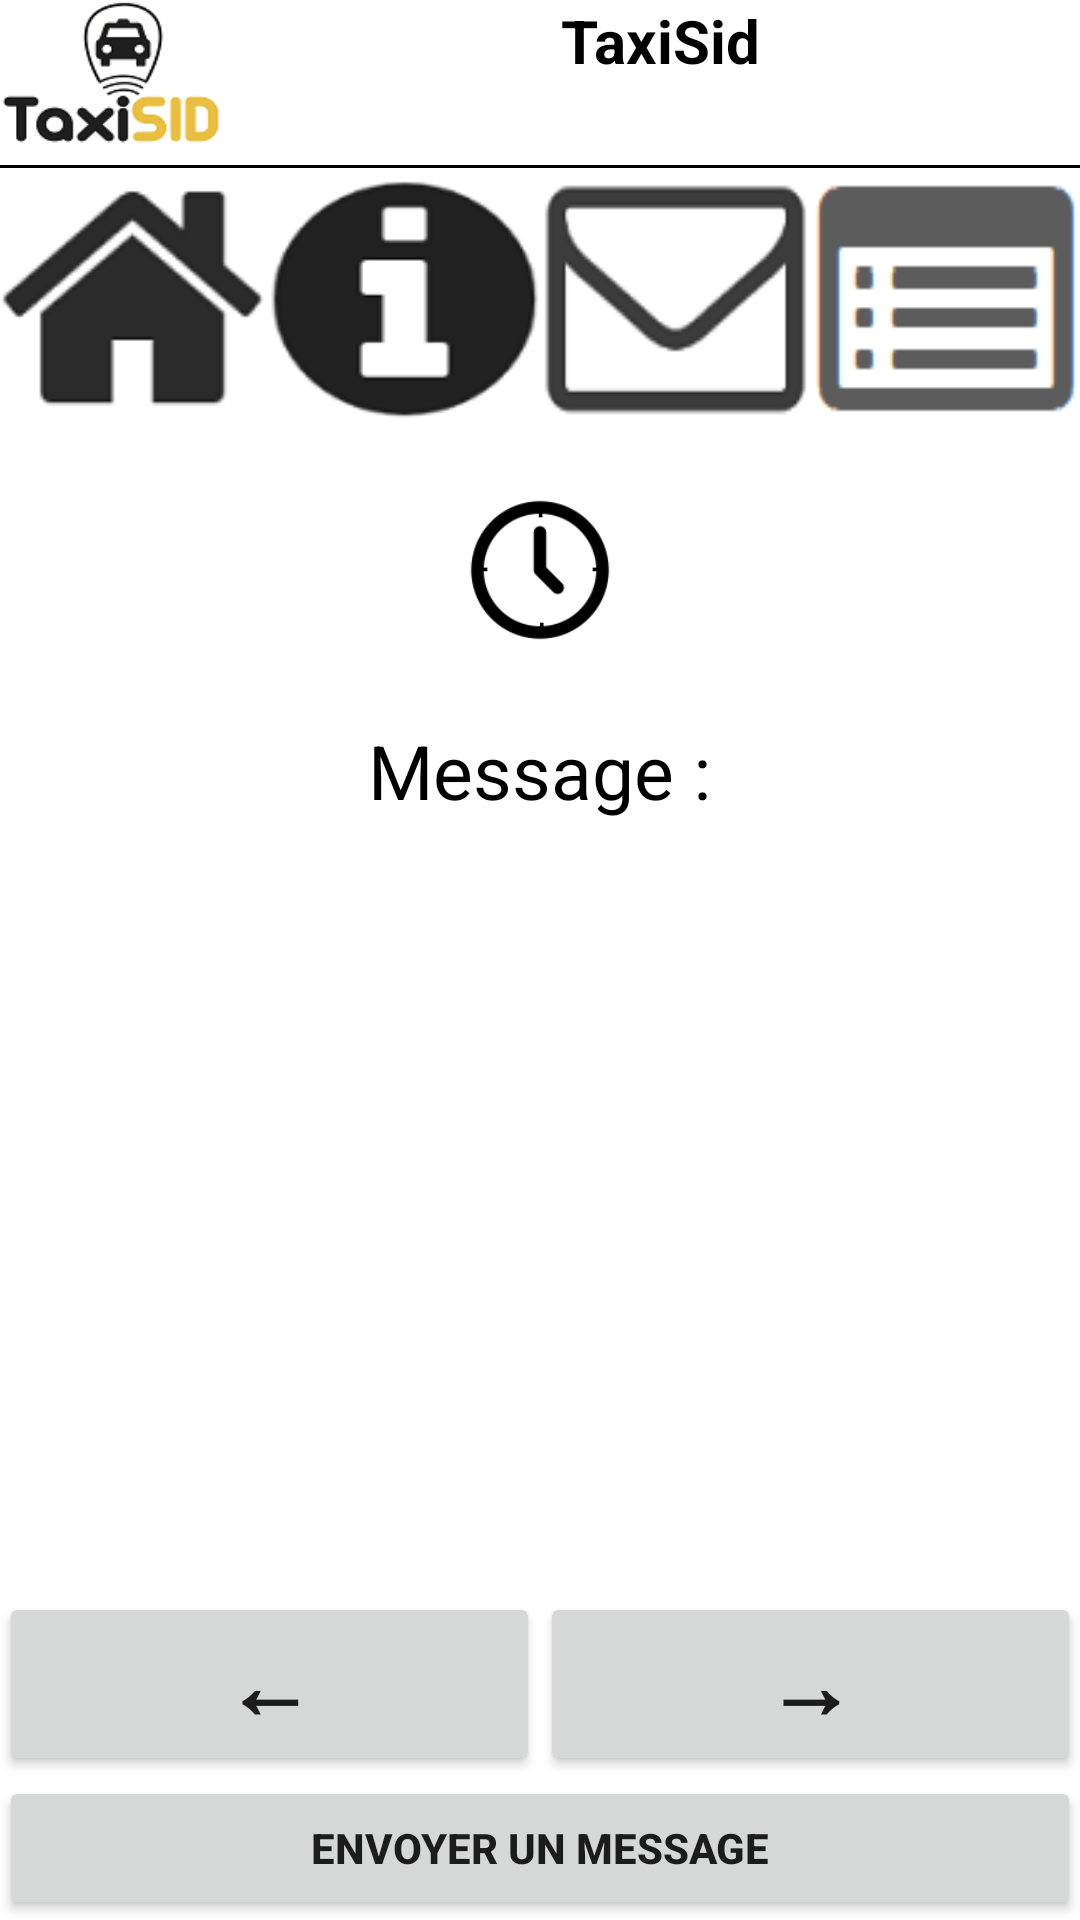

Point at icon controls on the screen. Image size 1080x1920, points as (x,y).
clock: (540,570)
enveloppe: (675,299)
home: (132,298)
